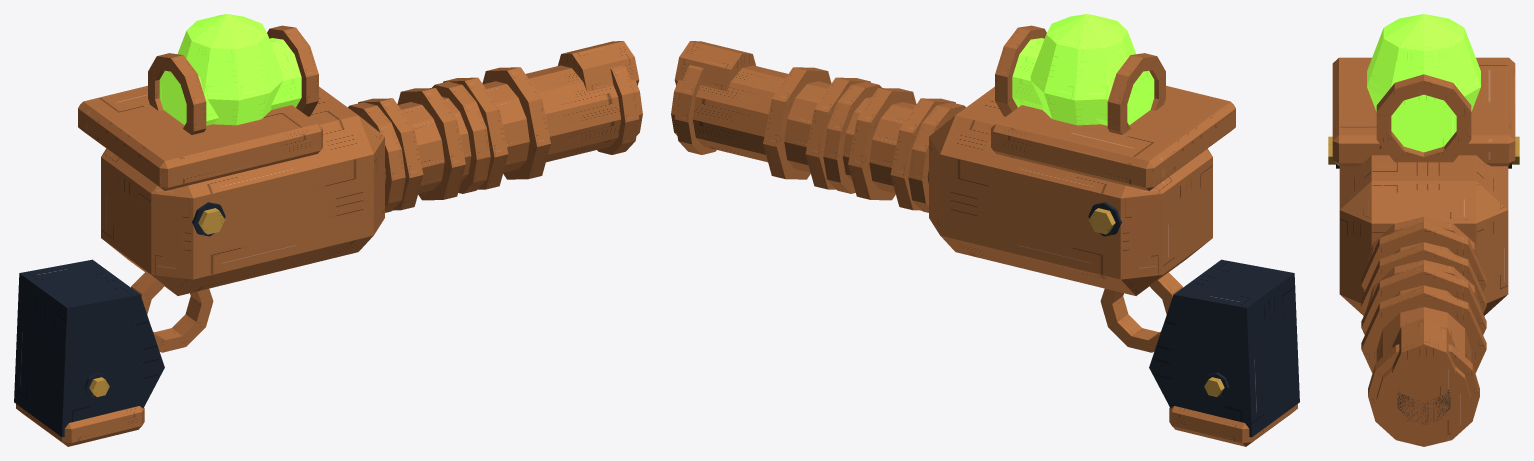
The model's file is alchemer.glb.
The picture shows the model from 3 angles, left to right: view 1: azimuth 30°, elevation 25°; view 2: azimuth 150°, elevation 25°; view 3: azimuth 270°, elevation 25°; orthographic projection. The views are drawn at different scales.
Parts seen in each view (by area): view 1: body, barrel, grip, core; view 2: body, barrel, grip, core; view 3: body, barrel, core.
Part boxes in pixels (bbox=[...]): body: bbox=[78, 85, 384, 352]; barrel: bbox=[348, 41, 642, 212]; grip: bbox=[14, 259, 164, 446]; core: bbox=[148, 14, 318, 134]; body: bbox=[929, 85, 1235, 352]; barrel: bbox=[671, 41, 965, 212]; grip: bbox=[1149, 259, 1299, 446]; core: bbox=[995, 14, 1165, 134]; body: bbox=[1328, 57, 1519, 315]; barrel: bbox=[1361, 217, 1486, 446]; core: bbox=[1367, 14, 1480, 162].
Size of the model in its own units: 0.5515 by 0.3344 by 0.1498.
Materials: 4 (4 with a texture image).
